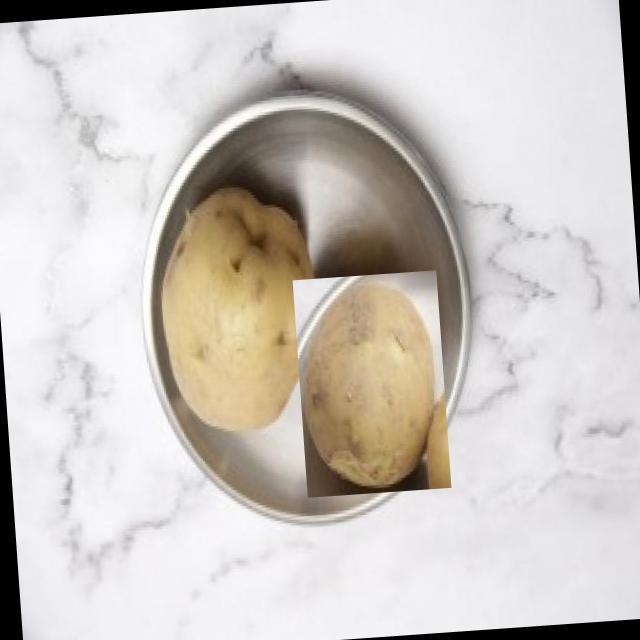Potato: (142, 172, 328, 440), (291, 268, 450, 496)
